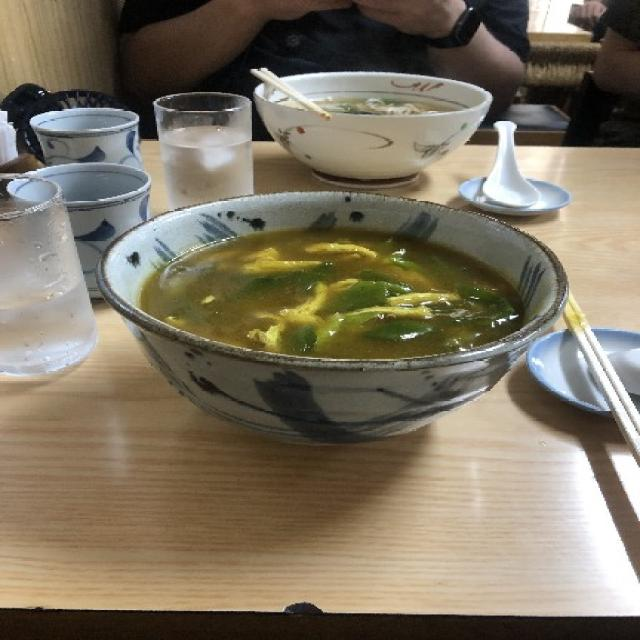Bowl: (95, 189, 569, 445), (252, 70, 493, 189)
Cup: (0, 172, 98, 377), (6, 161, 151, 299), (151, 91, 253, 210), (28, 107, 142, 169)
Plate: (524, 327, 638, 418), (458, 176, 570, 216)
